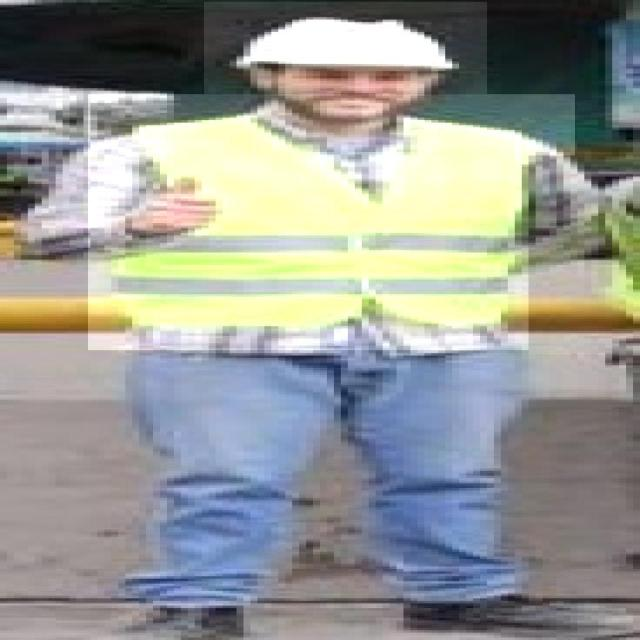Helmet: (204, 2, 487, 146)
Safety Vest: (88, 94, 575, 350), (528, 156, 640, 354)
